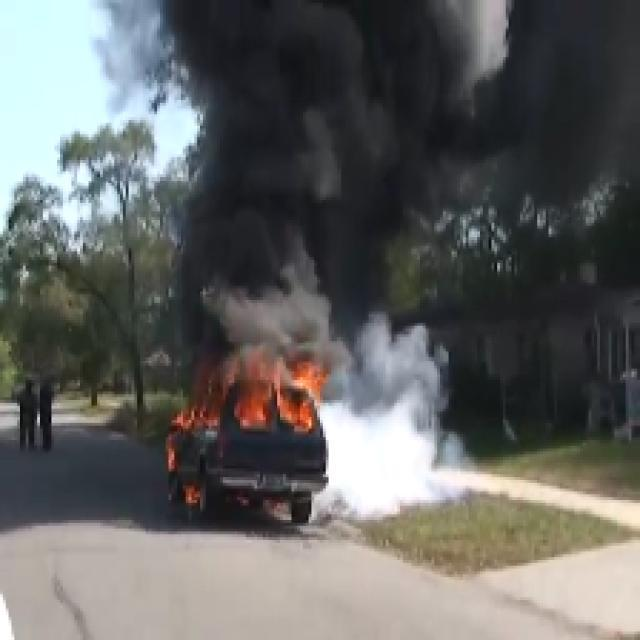Smoke: (182, 3, 626, 184), (202, 196, 376, 360), (318, 361, 430, 494)
